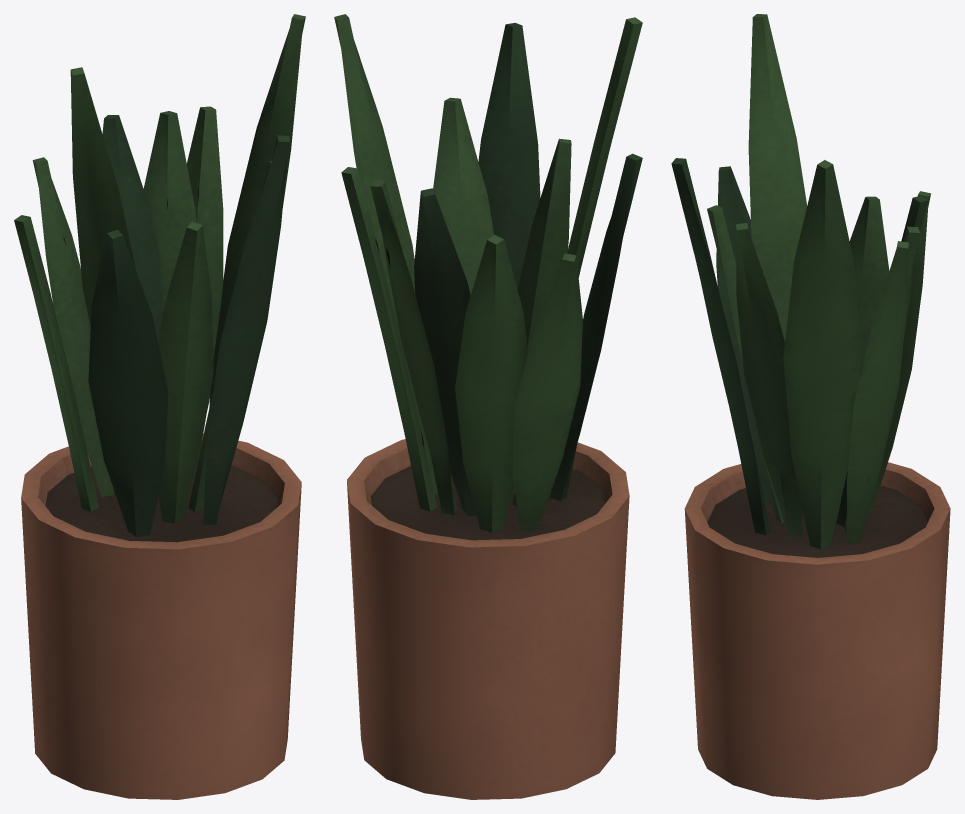
Rendered from H_PlantSnake.fbx.
The picture shows the model from 3 angles, left to right: view 1: azimuth 30°, elevation 25°; view 2: azimuth 150°, elevation 25°; view 3: azimuth 270°, elevation 25°; orthographic projection. The views are drawn at different scales.
Parts seen in each view (by area): view 1: H_PlantSnake; view 2: H_PlantSnake; view 3: H_PlantSnake.
Part boxes in pixels (<box>): H_PlantSnake: <box>14,14,305,799</box>; H_PlantSnake: <box>334,14,642,799</box>; H_PlantSnake: <box>671,14,950,799</box>.
Bounding box in the file's own units: 111 × 283 × 105.
Materials: 1 (1 with a texture image).
